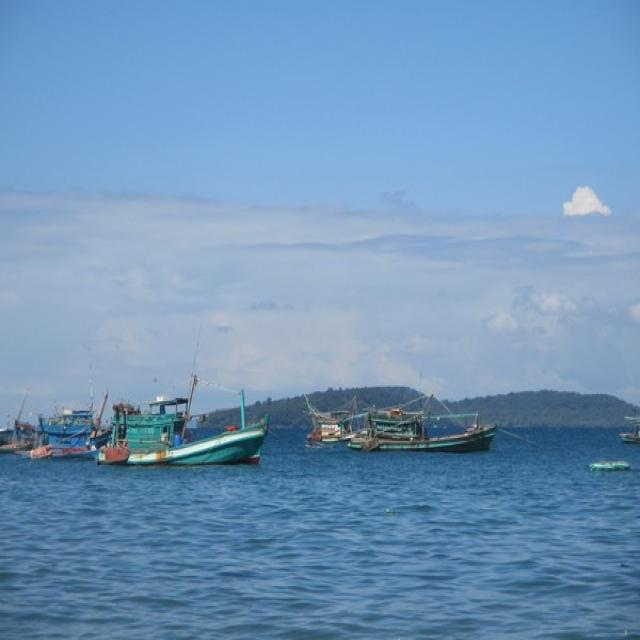fishing boat: (99, 387, 268, 469), (350, 388, 491, 456)
